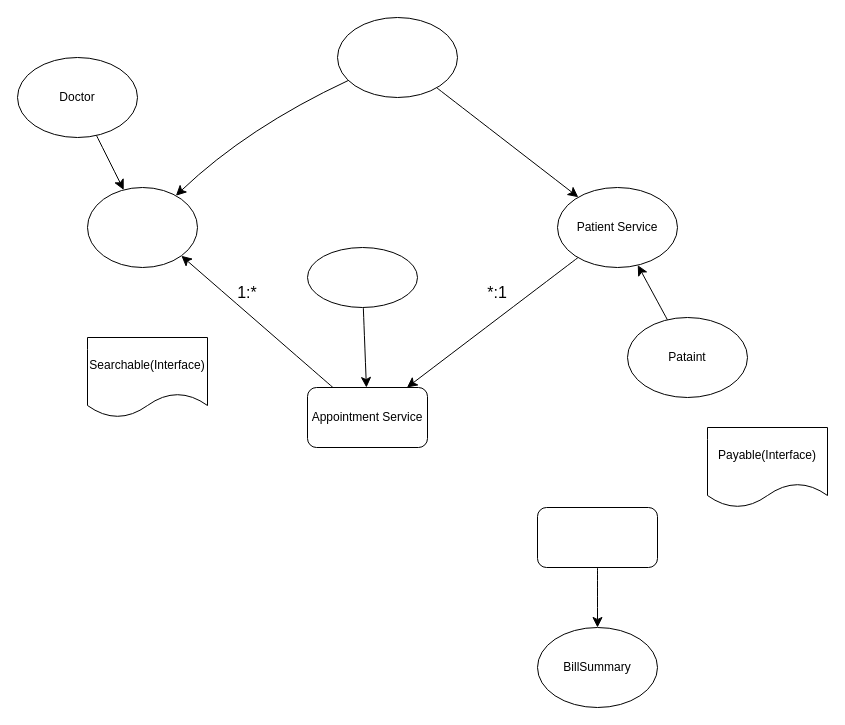
This 845x725 diagram has some shape labels left out. Each missing label, with the box of its shape:
Appointment: (306, 246, 418, 308)
Bill: (536, 506, 658, 568)
Doctor Service: (86, 186, 198, 268)
Person(Abstraction): (336, 16, 458, 98)
